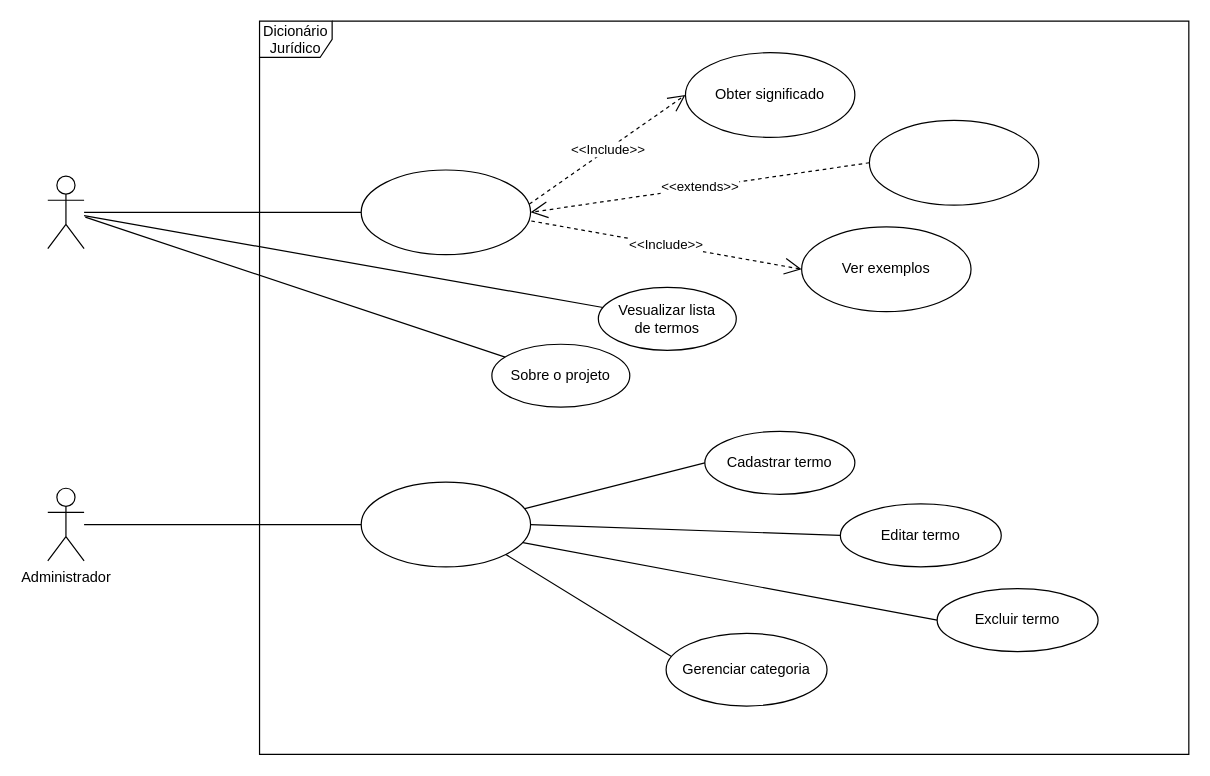
Some shapes in this 1210 by 776 pixel diagram are drawn without their labels. The box of each missing label's shape, as (x1, y1, x2, y2) in pixels:
Fazer login: (360, 481, 531, 567)
Filtrar por categoria: (868, 119, 1039, 205)
Pesquisar termo: (360, 169, 531, 255)
Usuário: (47, 175, 84, 249)
